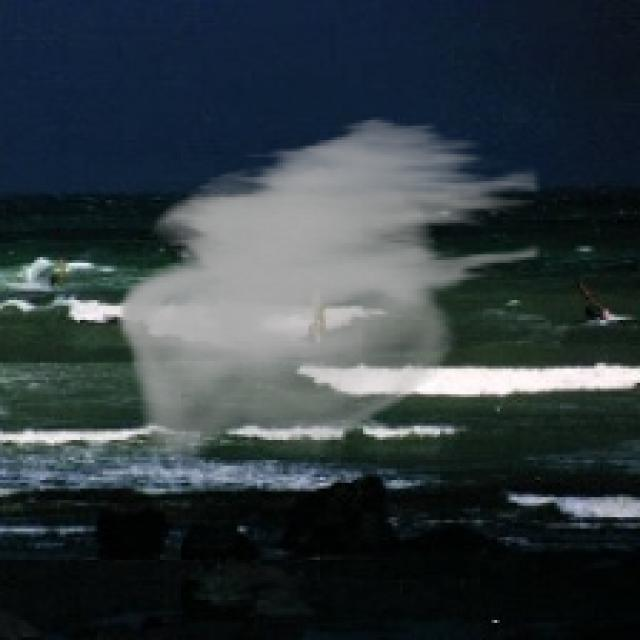Smoke: (117, 114, 540, 460)
